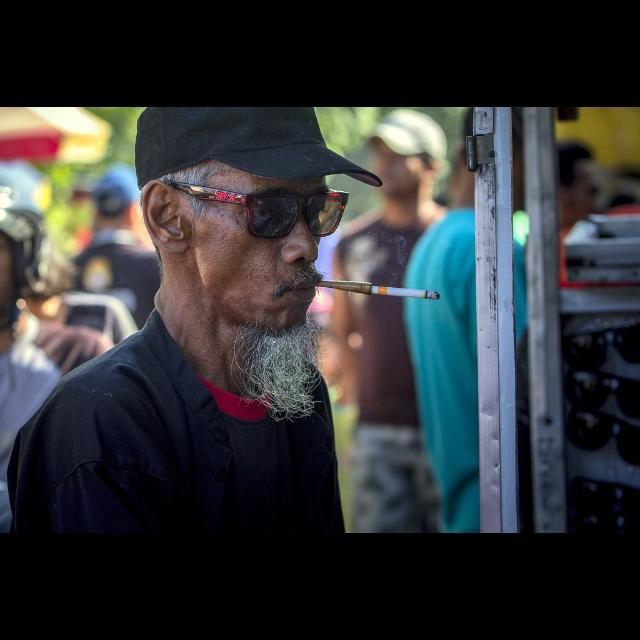rokok: (368, 278, 450, 308)
